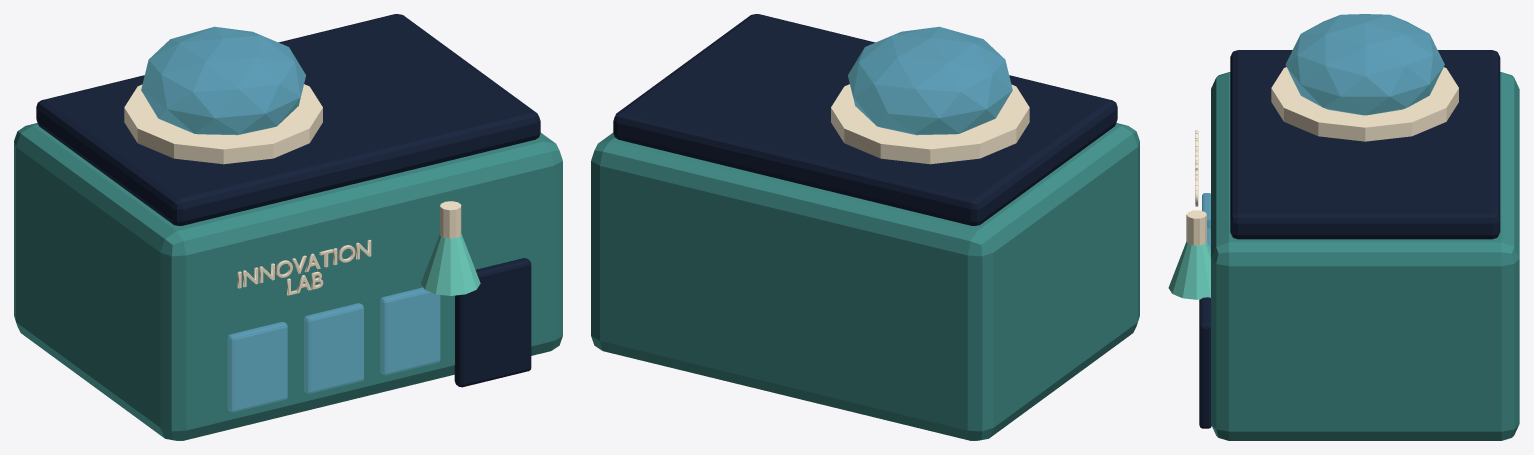
Rendered from innovation-lab.glb.
3 views of the same model, side by side, from view 1: azimuth 30°, elevation 25°; view 2: azimuth 150°, elevation 25°; view 3: azimuth 270°, elevation 25° (orthographic). The views are drawn at different scales.
Parts seen in each view (by area): view 1: LabBody, LabRoof, LabDome, LabDoor, DomeBase, LabWindow_1, LabWindow_2, LabWindow_3, Cone, LabLabel, FlaskNeck; view 2: LabBody, LabRoof, LabDome, DomeBase; view 3: LabBody, LabRoof, LabDome, DomeBase, Cone, LabDoor, FlaskNeck.
Boxes of the visible parts, left/top/right/bottom form: LabBody: left=14, top=123, right=562, bottom=440; LabRoof: left=36, top=14, right=540, bottom=225; LabDome: left=141, top=26, right=305, bottom=135; LabDoor: left=454, top=258, right=531, bottom=387; DomeBase: left=124, top=84, right=322, bottom=164; LabWindow_1: left=227, top=322, right=287, bottom=412; LabWindow_2: left=304, top=303, right=363, bottom=393; LabWindow_3: left=380, top=287, right=440, bottom=375; Cone: left=421, top=234, right=480, bottom=295; LabLabel: left=237, top=240, right=371, bottom=295; FlaskNeck: left=440, top=201, right=461, bottom=238; LabBody: left=591, top=123, right=1139, bottom=440; LabRoof: left=613, top=14, right=1117, bottom=225; LabDome: left=848, top=26, right=1012, bottom=135; DomeBase: left=831, top=84, right=1029, bottom=164; LabBody: left=1211, top=72, right=1519, bottom=440; LabRoof: left=1230, top=50, right=1500, bottom=239; LabDome: left=1285, top=14, right=1444, bottom=115; DomeBase: left=1271, top=67, right=1458, bottom=141; Cone: left=1168, top=241, right=1210, bottom=299; LabDoor: left=1199, top=297, right=1211, bottom=428; FlaskNeck: left=1186, top=210, right=1206, bottom=246.
Size of the model in its own units: 3.4 by 2.62 by 2.73.
